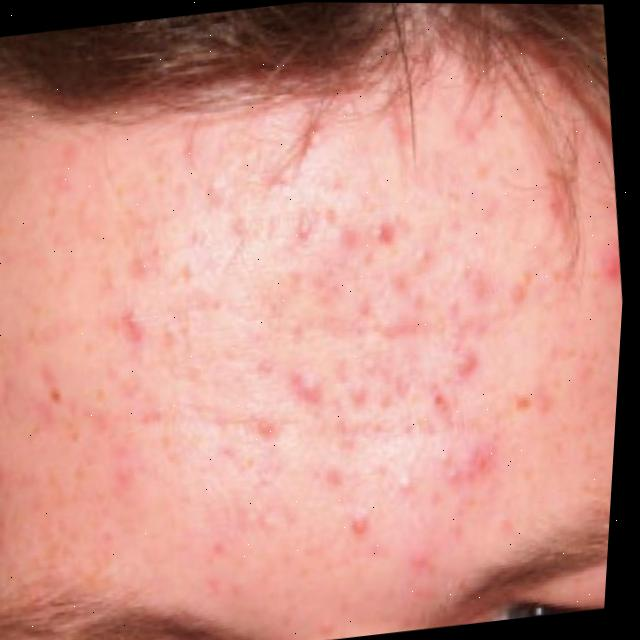Acne: (0, 100, 634, 582)
